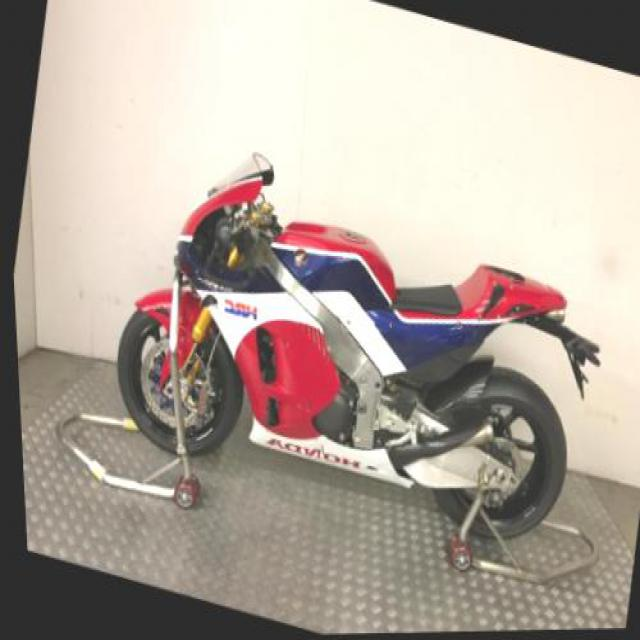HRC RCV 213: (85, 110, 616, 574)
